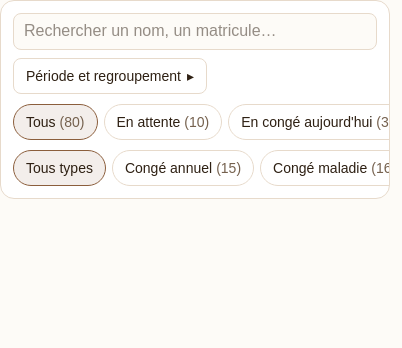
période, regroupement, réinitialisation › téléphone : période et regroupement sont repliés derrière un bouton, ouverts d'office quand ils servent
Step 1. Click the button "Période et regroupement ▸" → point(110, 76), box [13,58,207,94]
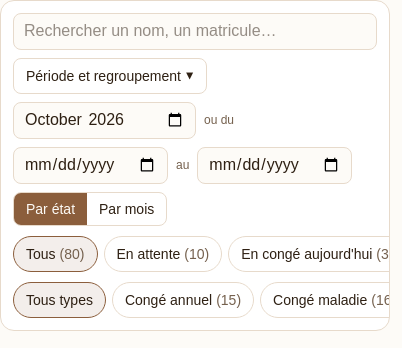
Result: the button "Période et regroupement ▸" is expanded at [13,58,207,94]
